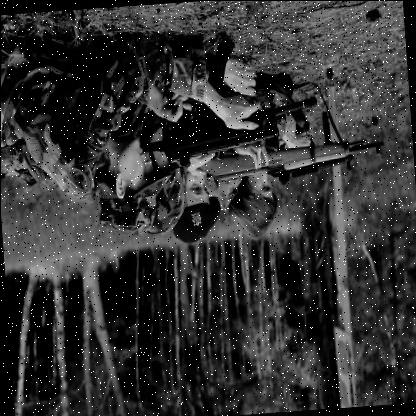rifle: (133, 23, 314, 177), (265, 74, 390, 190), (189, 108, 365, 178)
